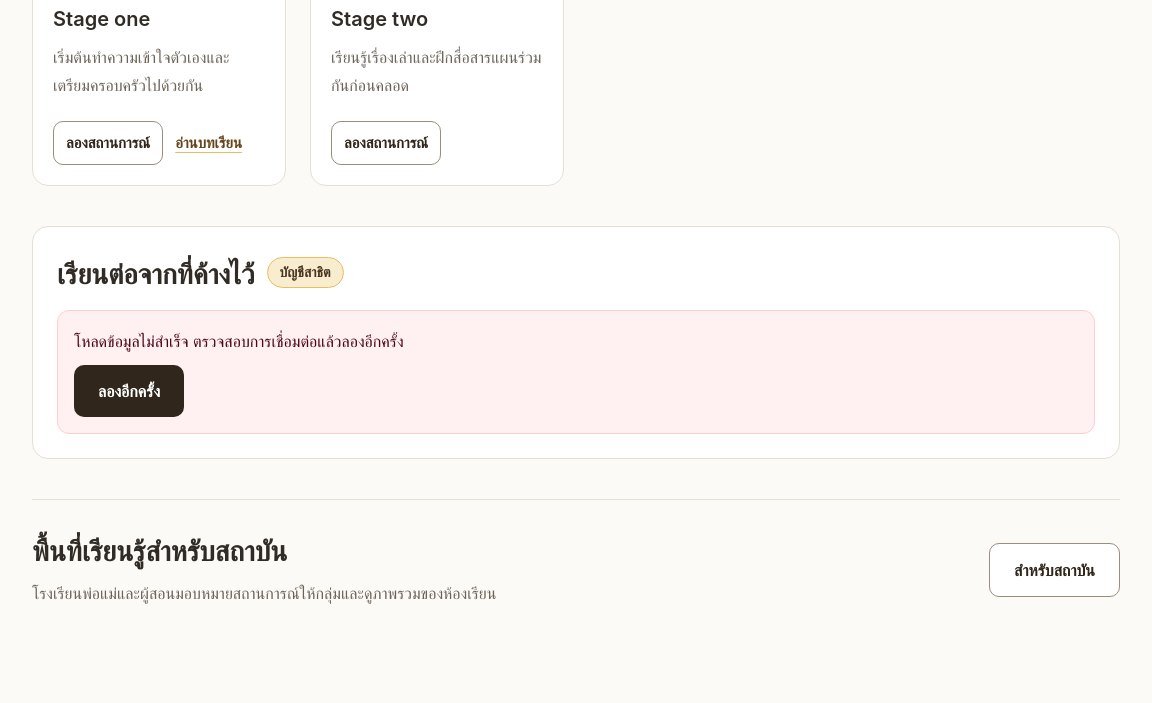
Test: Home › offers retry instead of claiming there is no progress when the passport fails
(page scrolled)
Step 1. Click the button "ลองอีกครั้ง" → (129, 391), box left=74, top=365, right=184, bottom=417
(page scrolled)
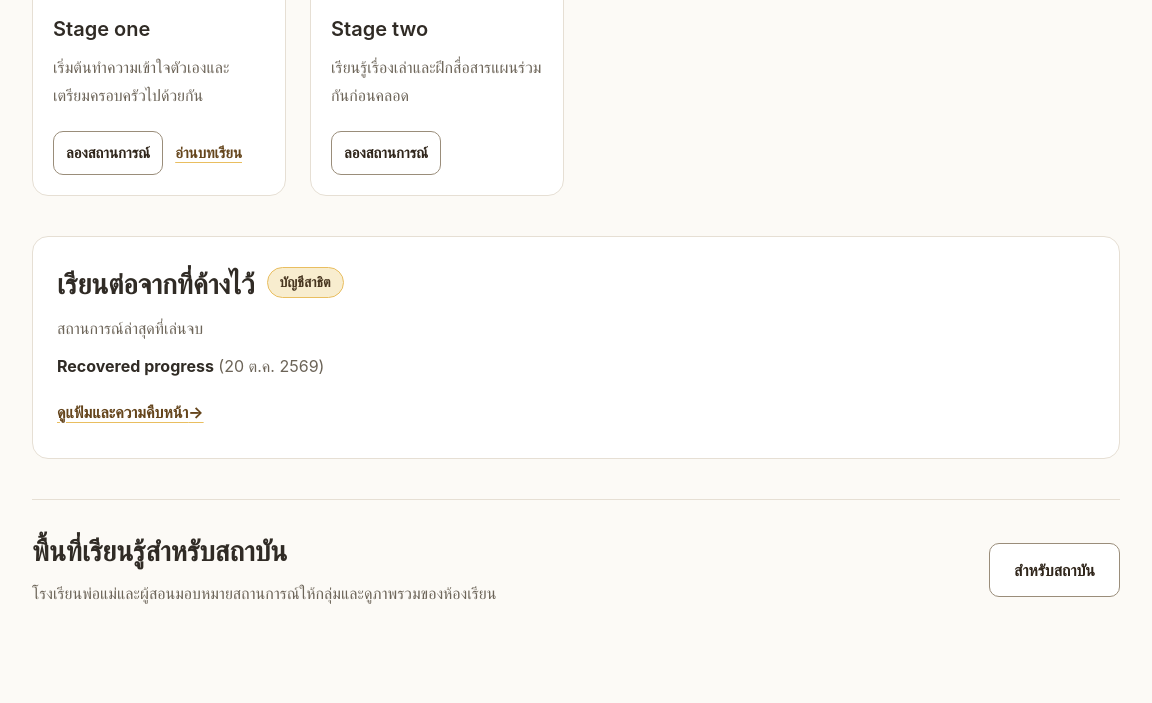
expect the text "Recovered progress" is shown: met, box left=57, top=356, right=214, bottom=376
